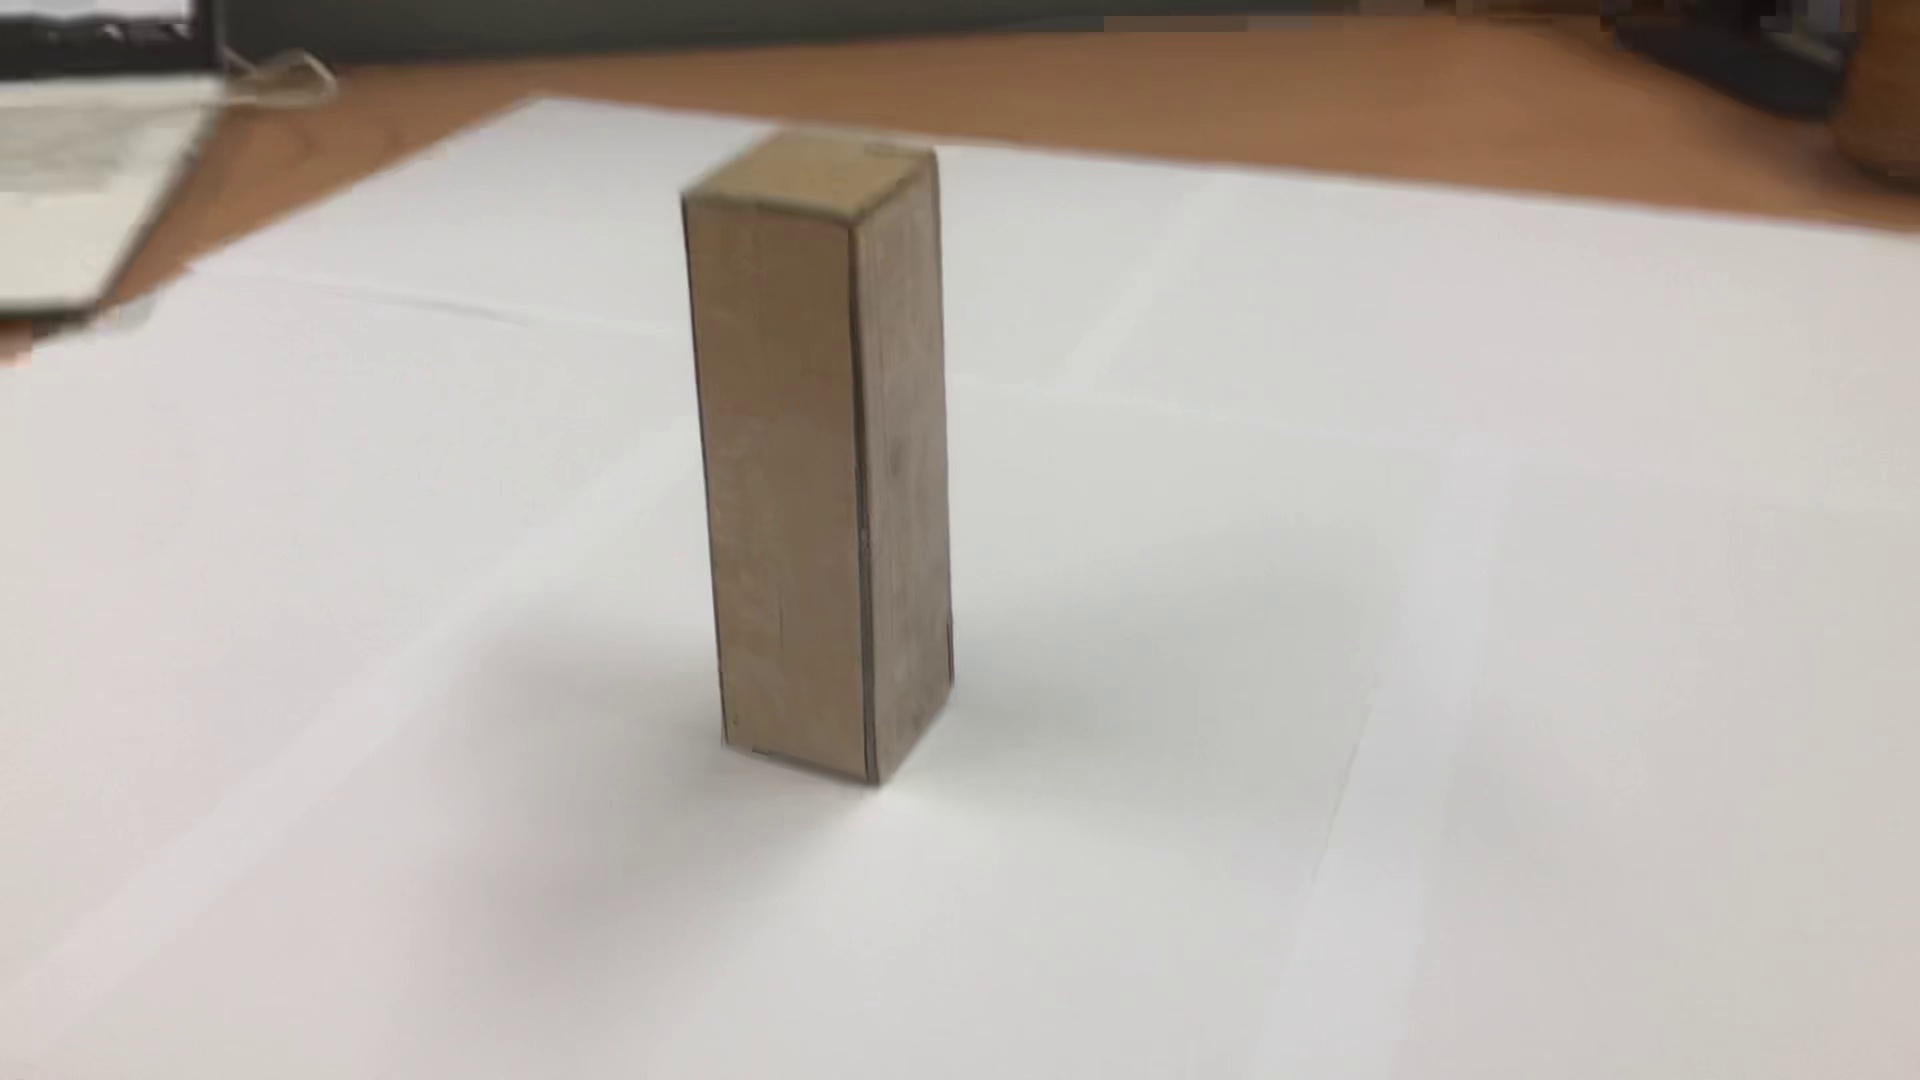box: (655, 123, 997, 802)
